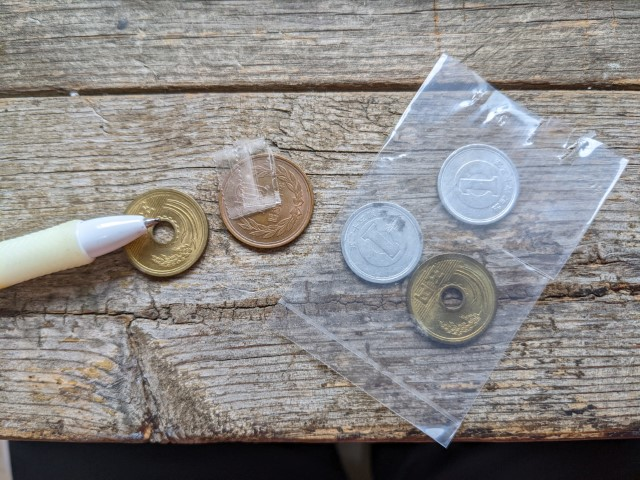10yen: (219, 153, 313, 250)
1yen: (341, 202, 423, 285), (436, 144, 519, 226)
5yen: (406, 253, 498, 346), (121, 189, 209, 278)
